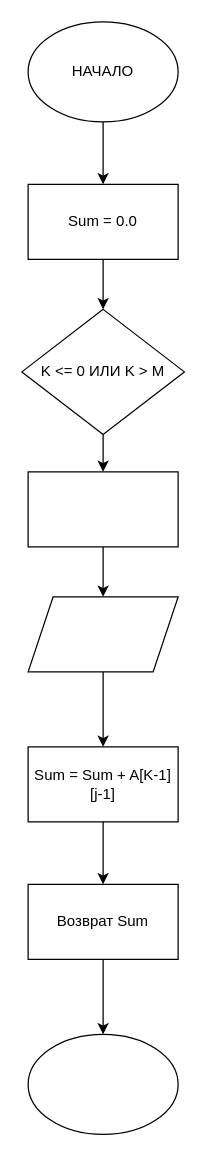
This 206x1156 diagram has some shape labels left out. The centre of each missing label's shape, as x and y in pixels:
Возврат 0.0: point 102,509
Для j = 1 до N: point 102,634
КОНЕЦ: point 102,1083
